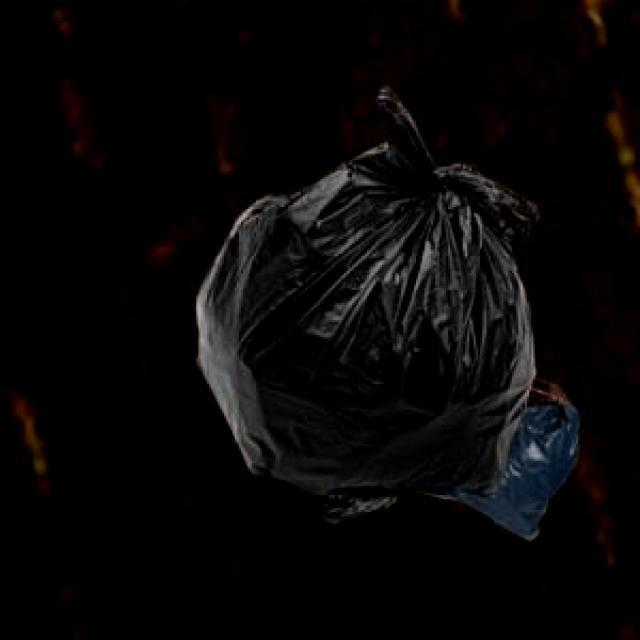Trashbag: (194, 131, 529, 505)
